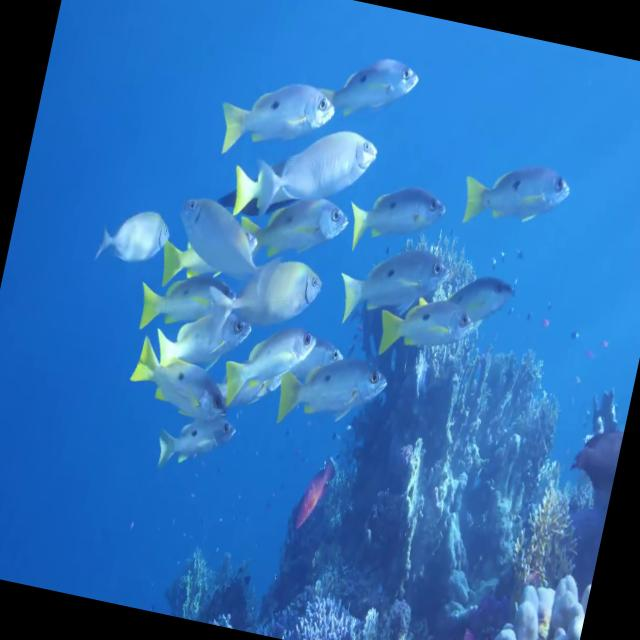fish: (246, 110, 380, 240), (205, 242, 332, 352), (331, 236, 454, 342), (212, 312, 324, 426), (271, 338, 394, 438), (219, 66, 336, 169), (232, 178, 354, 269), (135, 260, 248, 348), (460, 150, 573, 234), (127, 338, 240, 422), (344, 170, 448, 260), (150, 397, 254, 484), (166, 188, 268, 276), (371, 286, 477, 368), (328, 44, 420, 134), (156, 303, 258, 378), (90, 198, 174, 272), (436, 270, 519, 338)
